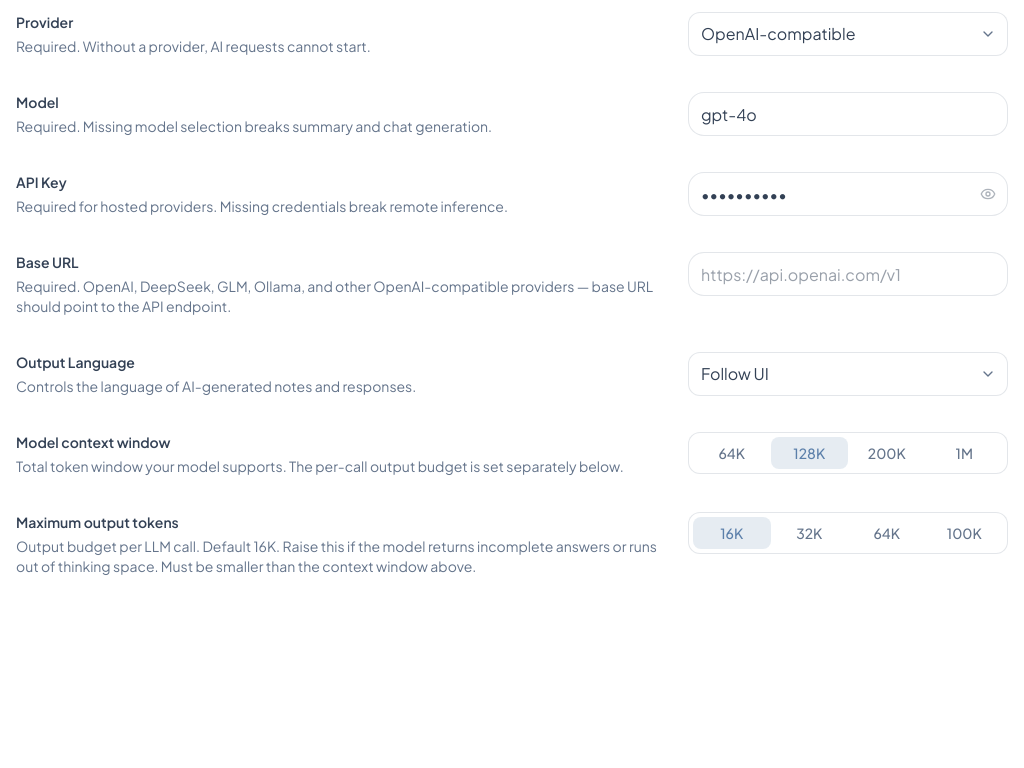
Test case: llm tab › api_key input type toggles between password and text
Click the button named "reveal": (988,194) x1=968 y1=172 x2=1008 y2=216
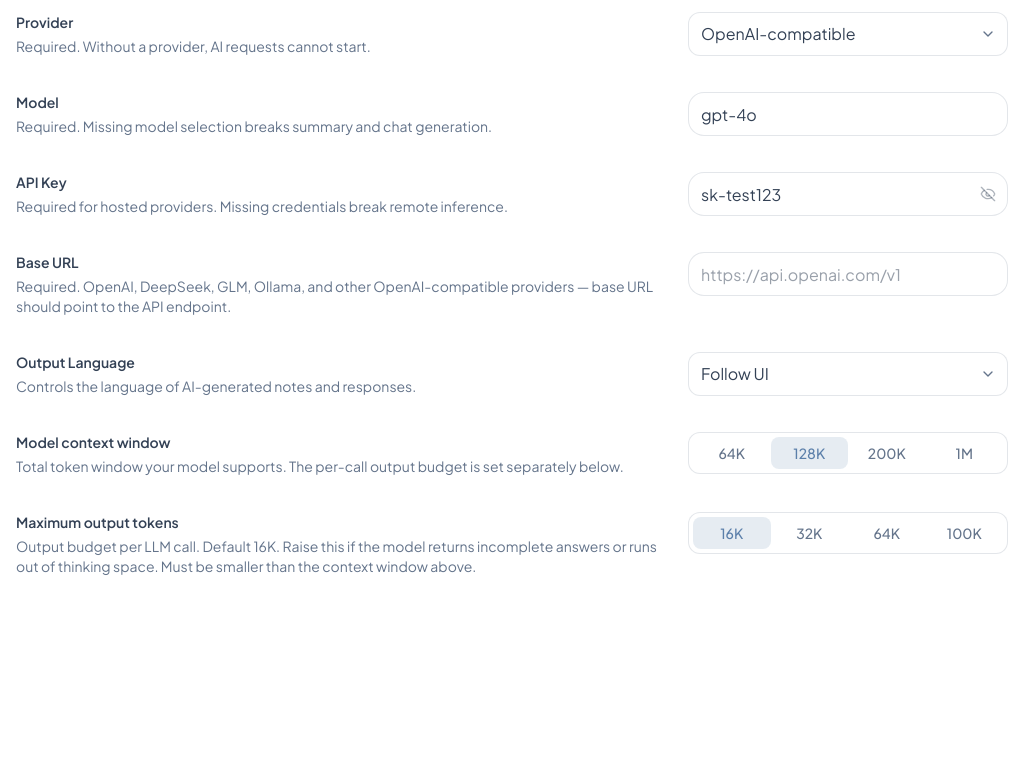
Expected: the field labelled "API Key" shows its text, x1=688 y1=172 x2=1008 y2=216
Click the button named "hide": (988,194) x1=968 y1=172 x2=1008 y2=216
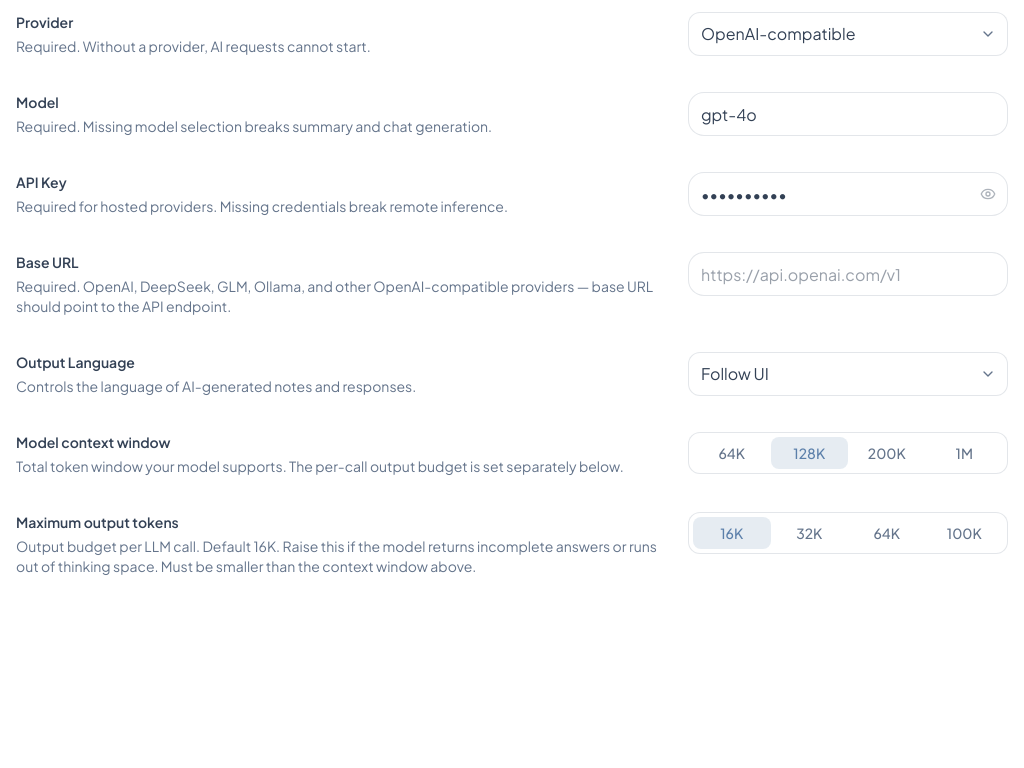
Expected: the password field labelled "API Key" hides its text, x1=688 y1=172 x2=1008 y2=216
